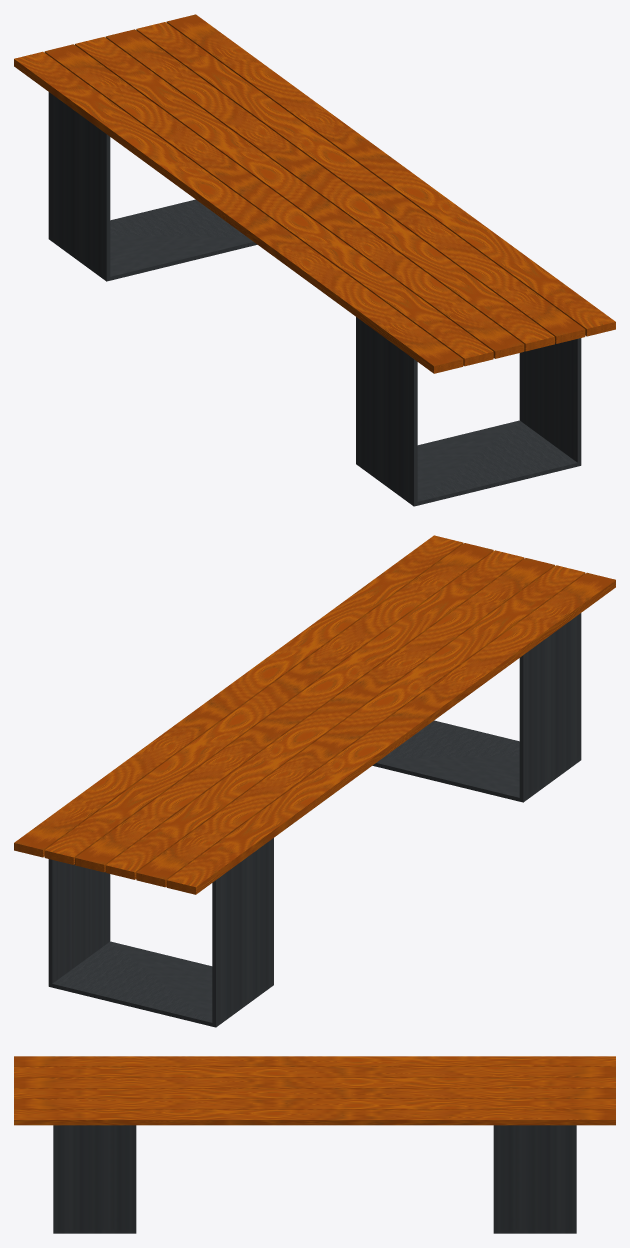
Rendered from bench.glb.
The picture shows the model from 3 angles, top to bottom: view 1: azimuth 30°, elevation 25°; view 2: azimuth 150°, elevation 25°; view 3: azimuth 270°, elevation 25°; orthographic projection. The views are drawn at different scales.
Visible parts, largest first — view 1: Cube_0, Cube.002_1; view 2: Cube_0, Cube.002_1; view 3: Cube_0, Cube.002_1.
Part boxes in pixels (x1,y1,x2,y2): Cube_0: (14,14,615,373); Cube.002_1: (48,92,581,506); Cube_0: (14,535,615,894); Cube.002_1: (48,613,581,1027); Cube_0: (14,1056,615,1125); Cube.002_1: (53,1125,576,1233).
Size of the model in its own units: 0.5 by 0.4259 by 2.
Materials: 1 (1 with a texture image).
